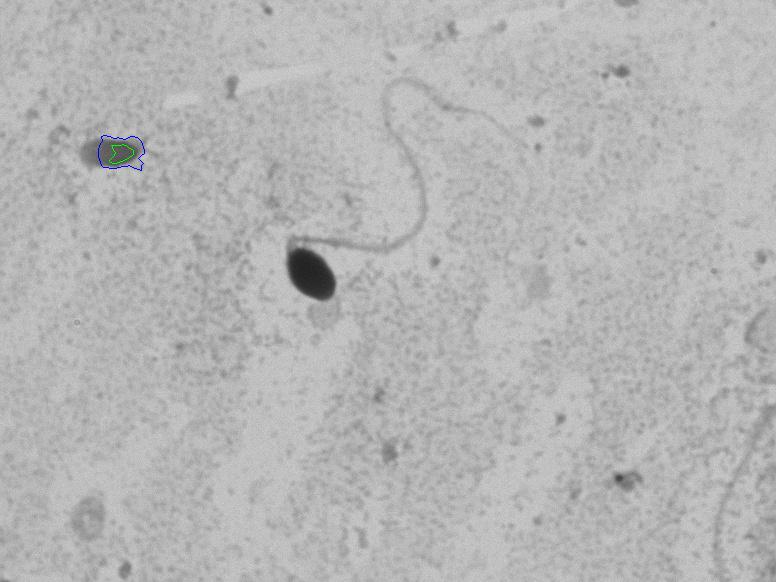Abnormal: (253, 46, 551, 318)
